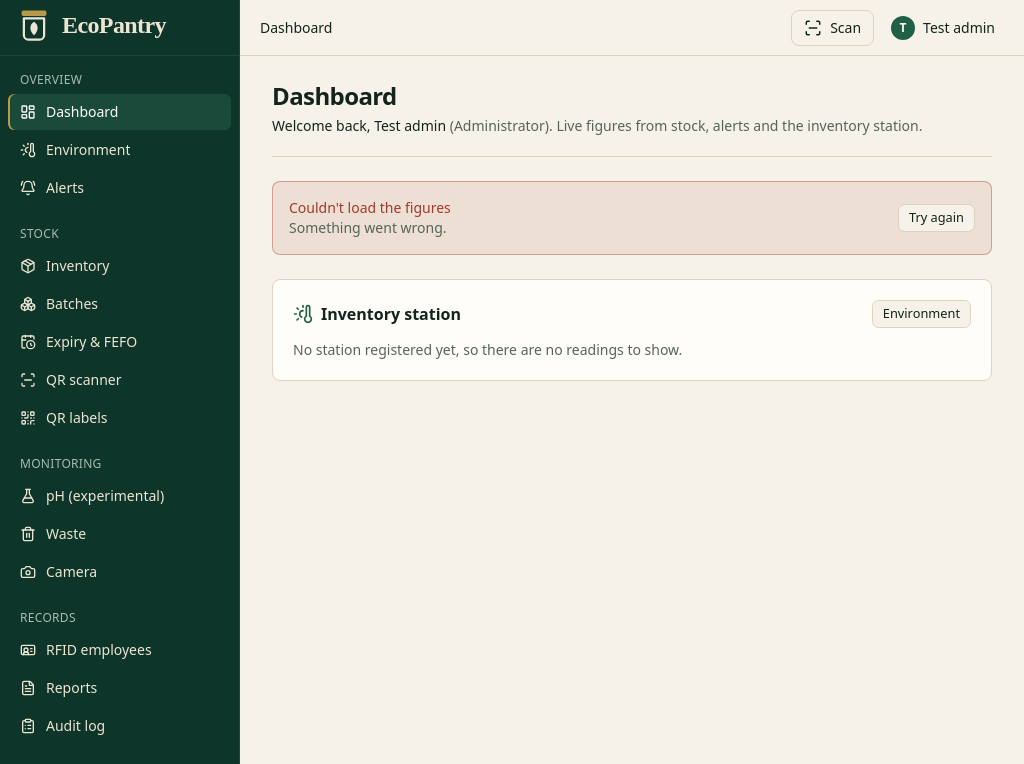
Test case: Dashboard page › shows the error with a retry that asks again
Expected: the text "Couldn't load the figures" is shown, [289,198,451,218]
Expected: the text "Something went wrong." is shown, [289,218,451,238]
Click the button "Try again".
click(936, 218)  # box [898,204,975,232]
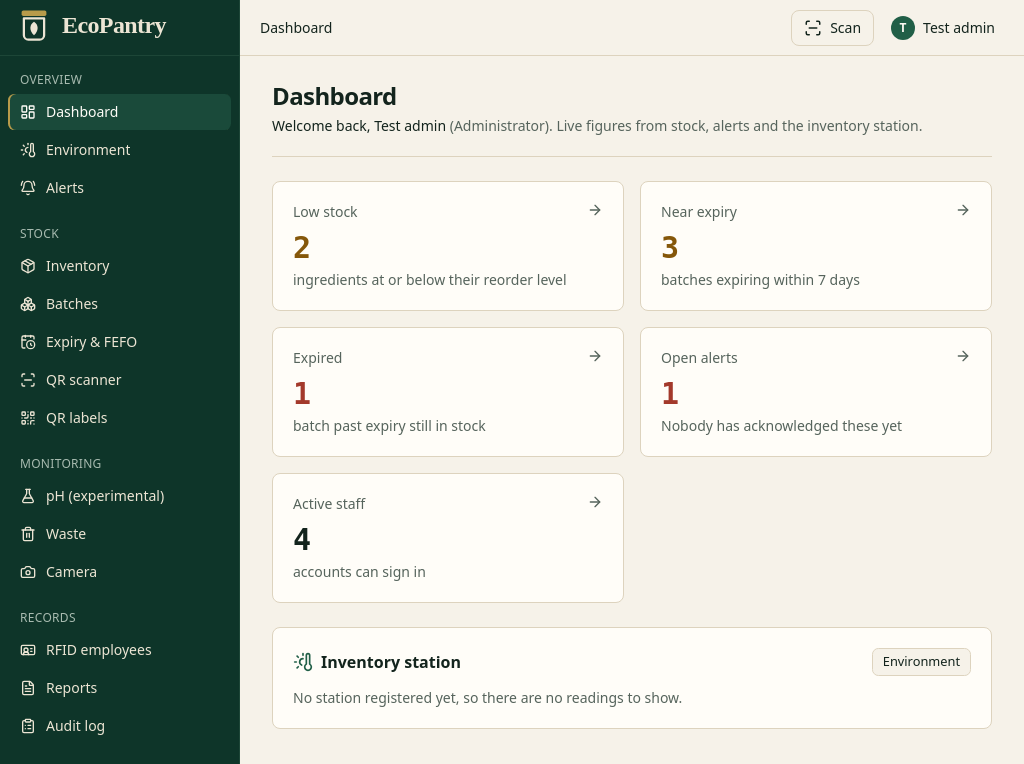
Result: the list named "Summary" is shown at [272,181,992,603]
